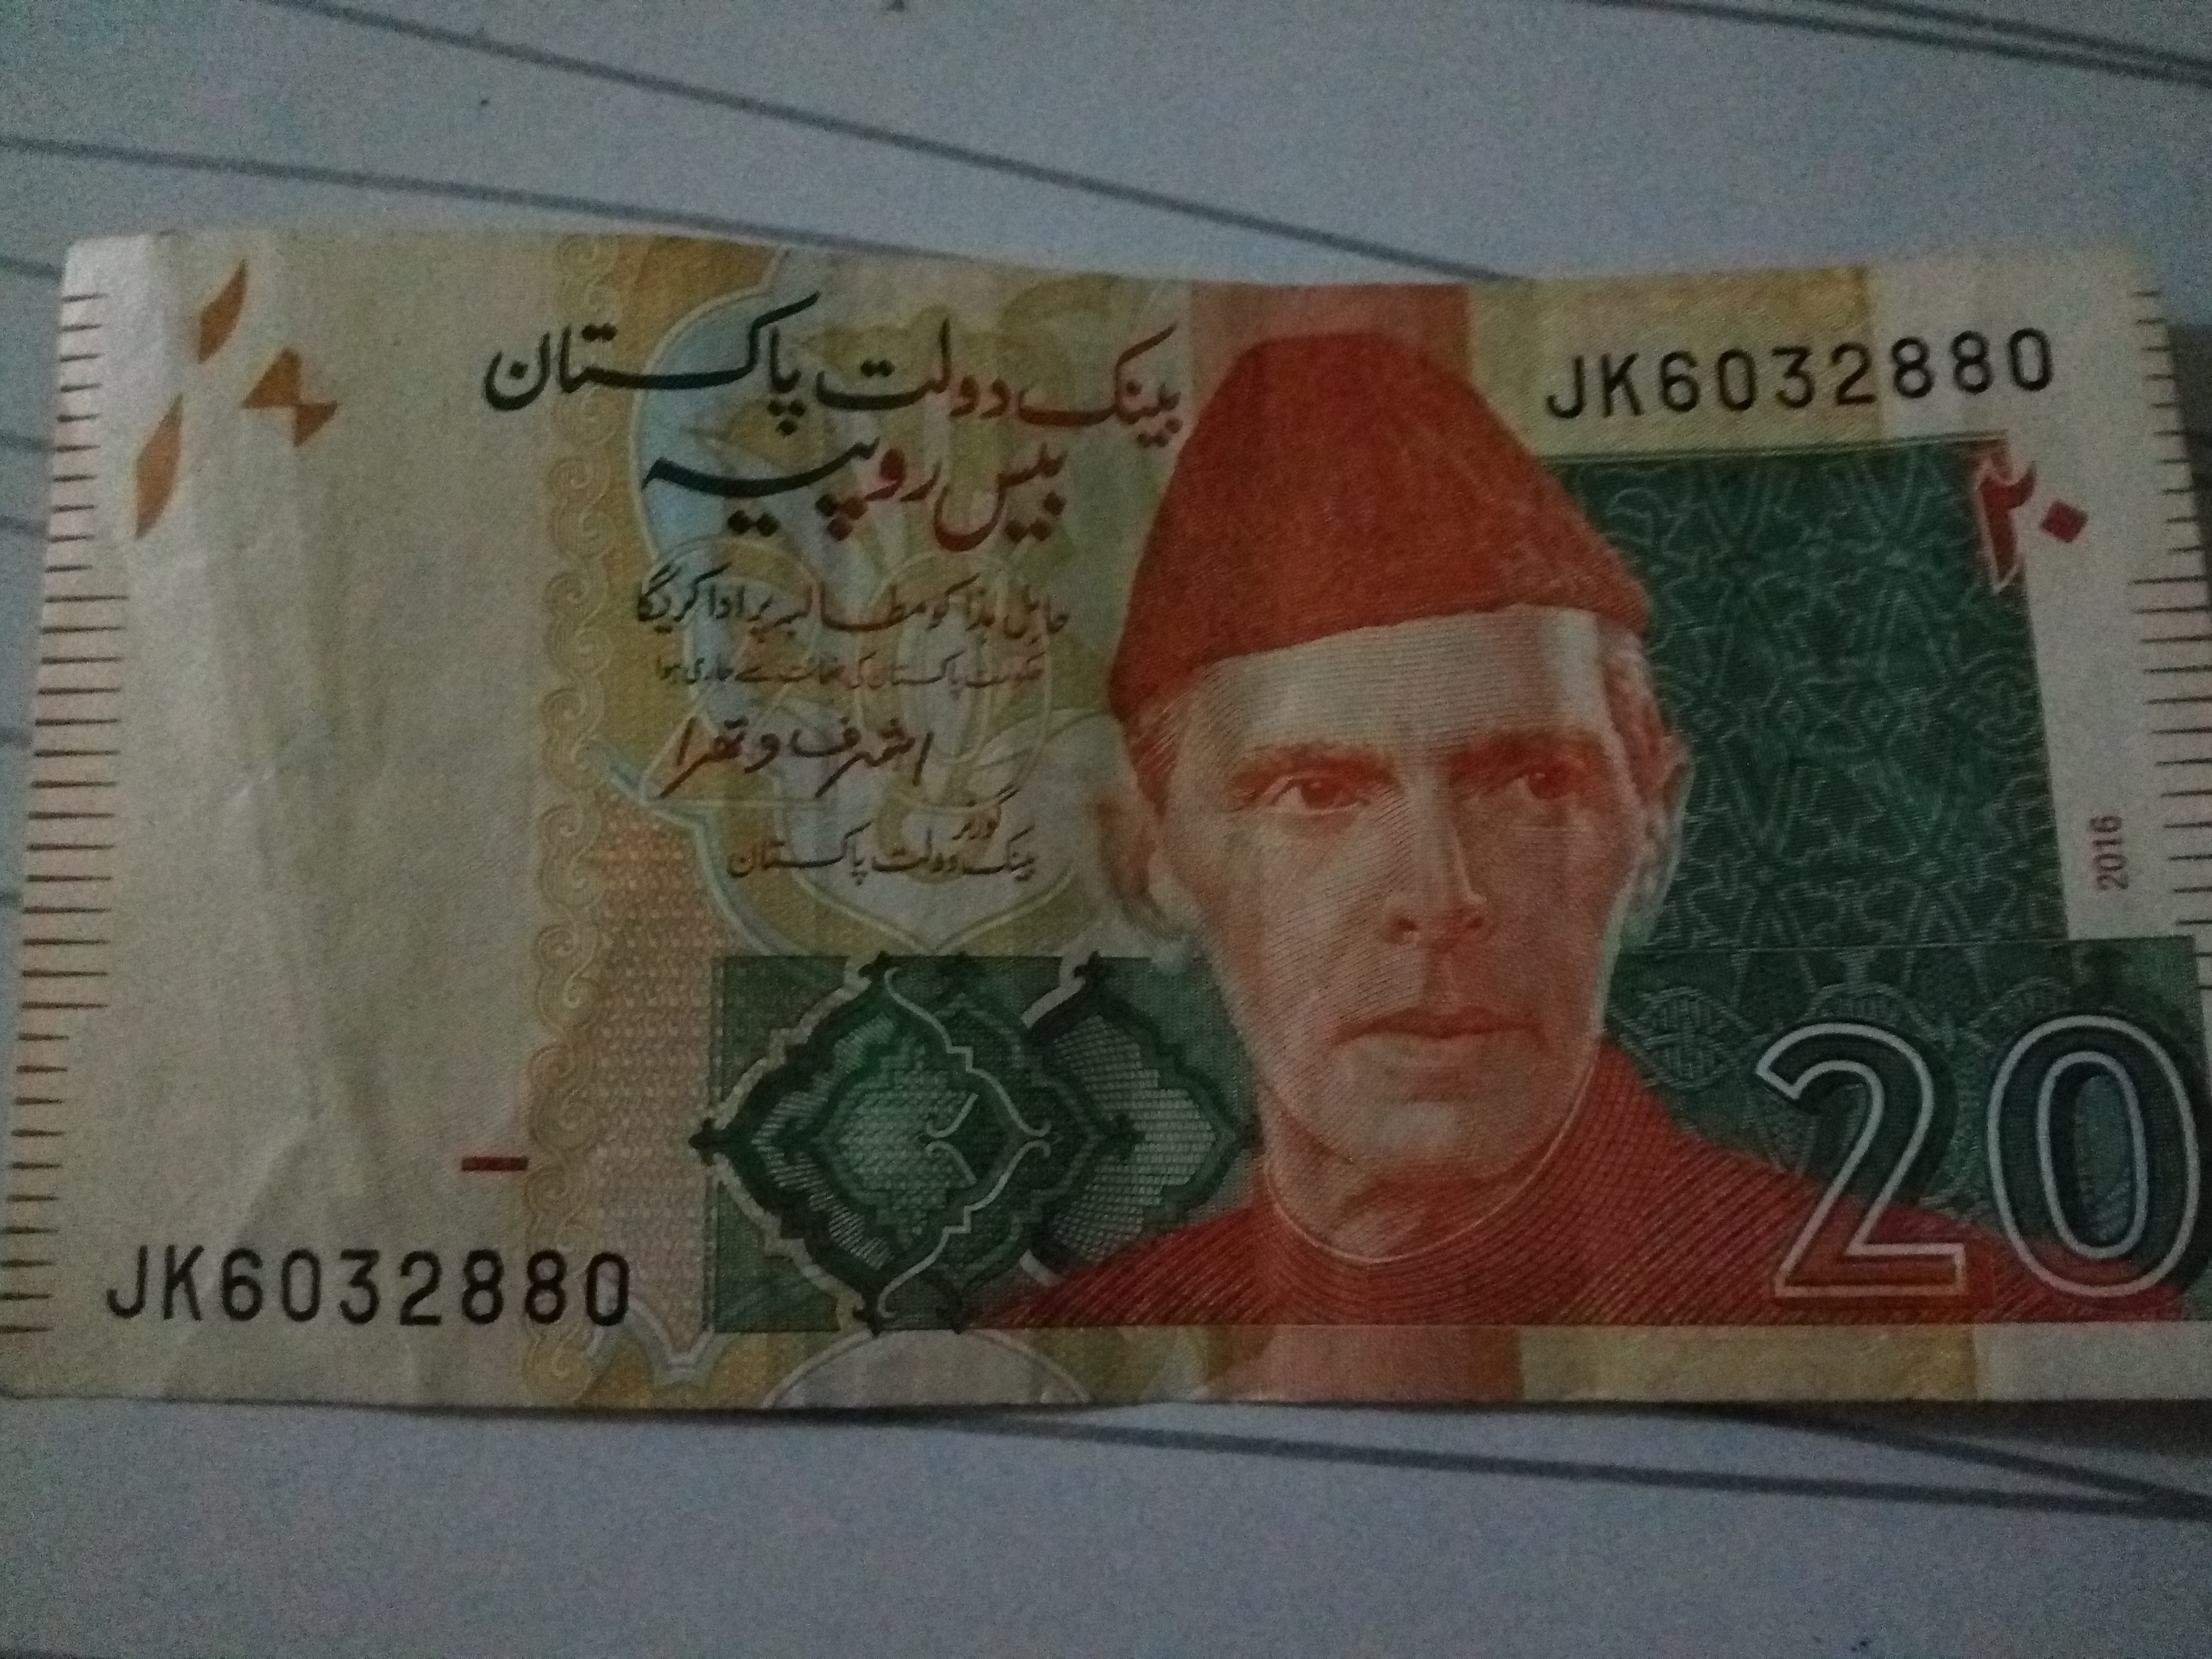20 rupee: (37, 209, 2182, 1436)
